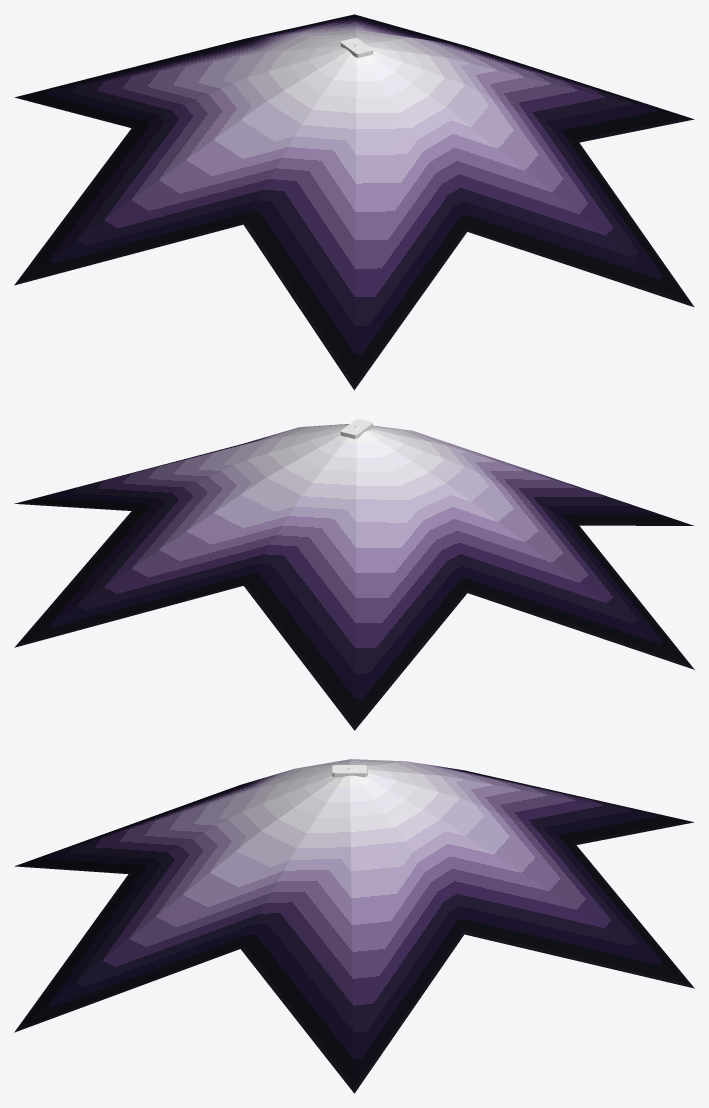
File: amsterdam_prop.glb
The picture shows the model from 3 angles, top to bottom: view 1: azimuth 30°, elevation 25°; view 2: azimuth 150°, elevation 25°; view 3: azimuth 270°, elevation 25°; orthographic projection.
Visible parts, largest first — view 1: amsterdam_prop2_flash; view 2: amsterdam_prop2_flash; view 3: amsterdam_prop2_flash.
Boxes of the visible parts, left/top/right/bottom form: amsterdam_prop2_flash: left=14, top=14, right=694, bottom=390; amsterdam_prop2_flash: left=14, top=424, right=694, bottom=730; amsterdam_prop2_flash: left=14, top=759, right=694, bottom=1093.
Size of the model in its own units: 24.99 by 6.35 by 21.62.
Materials: 2 (1 with a texture image).
